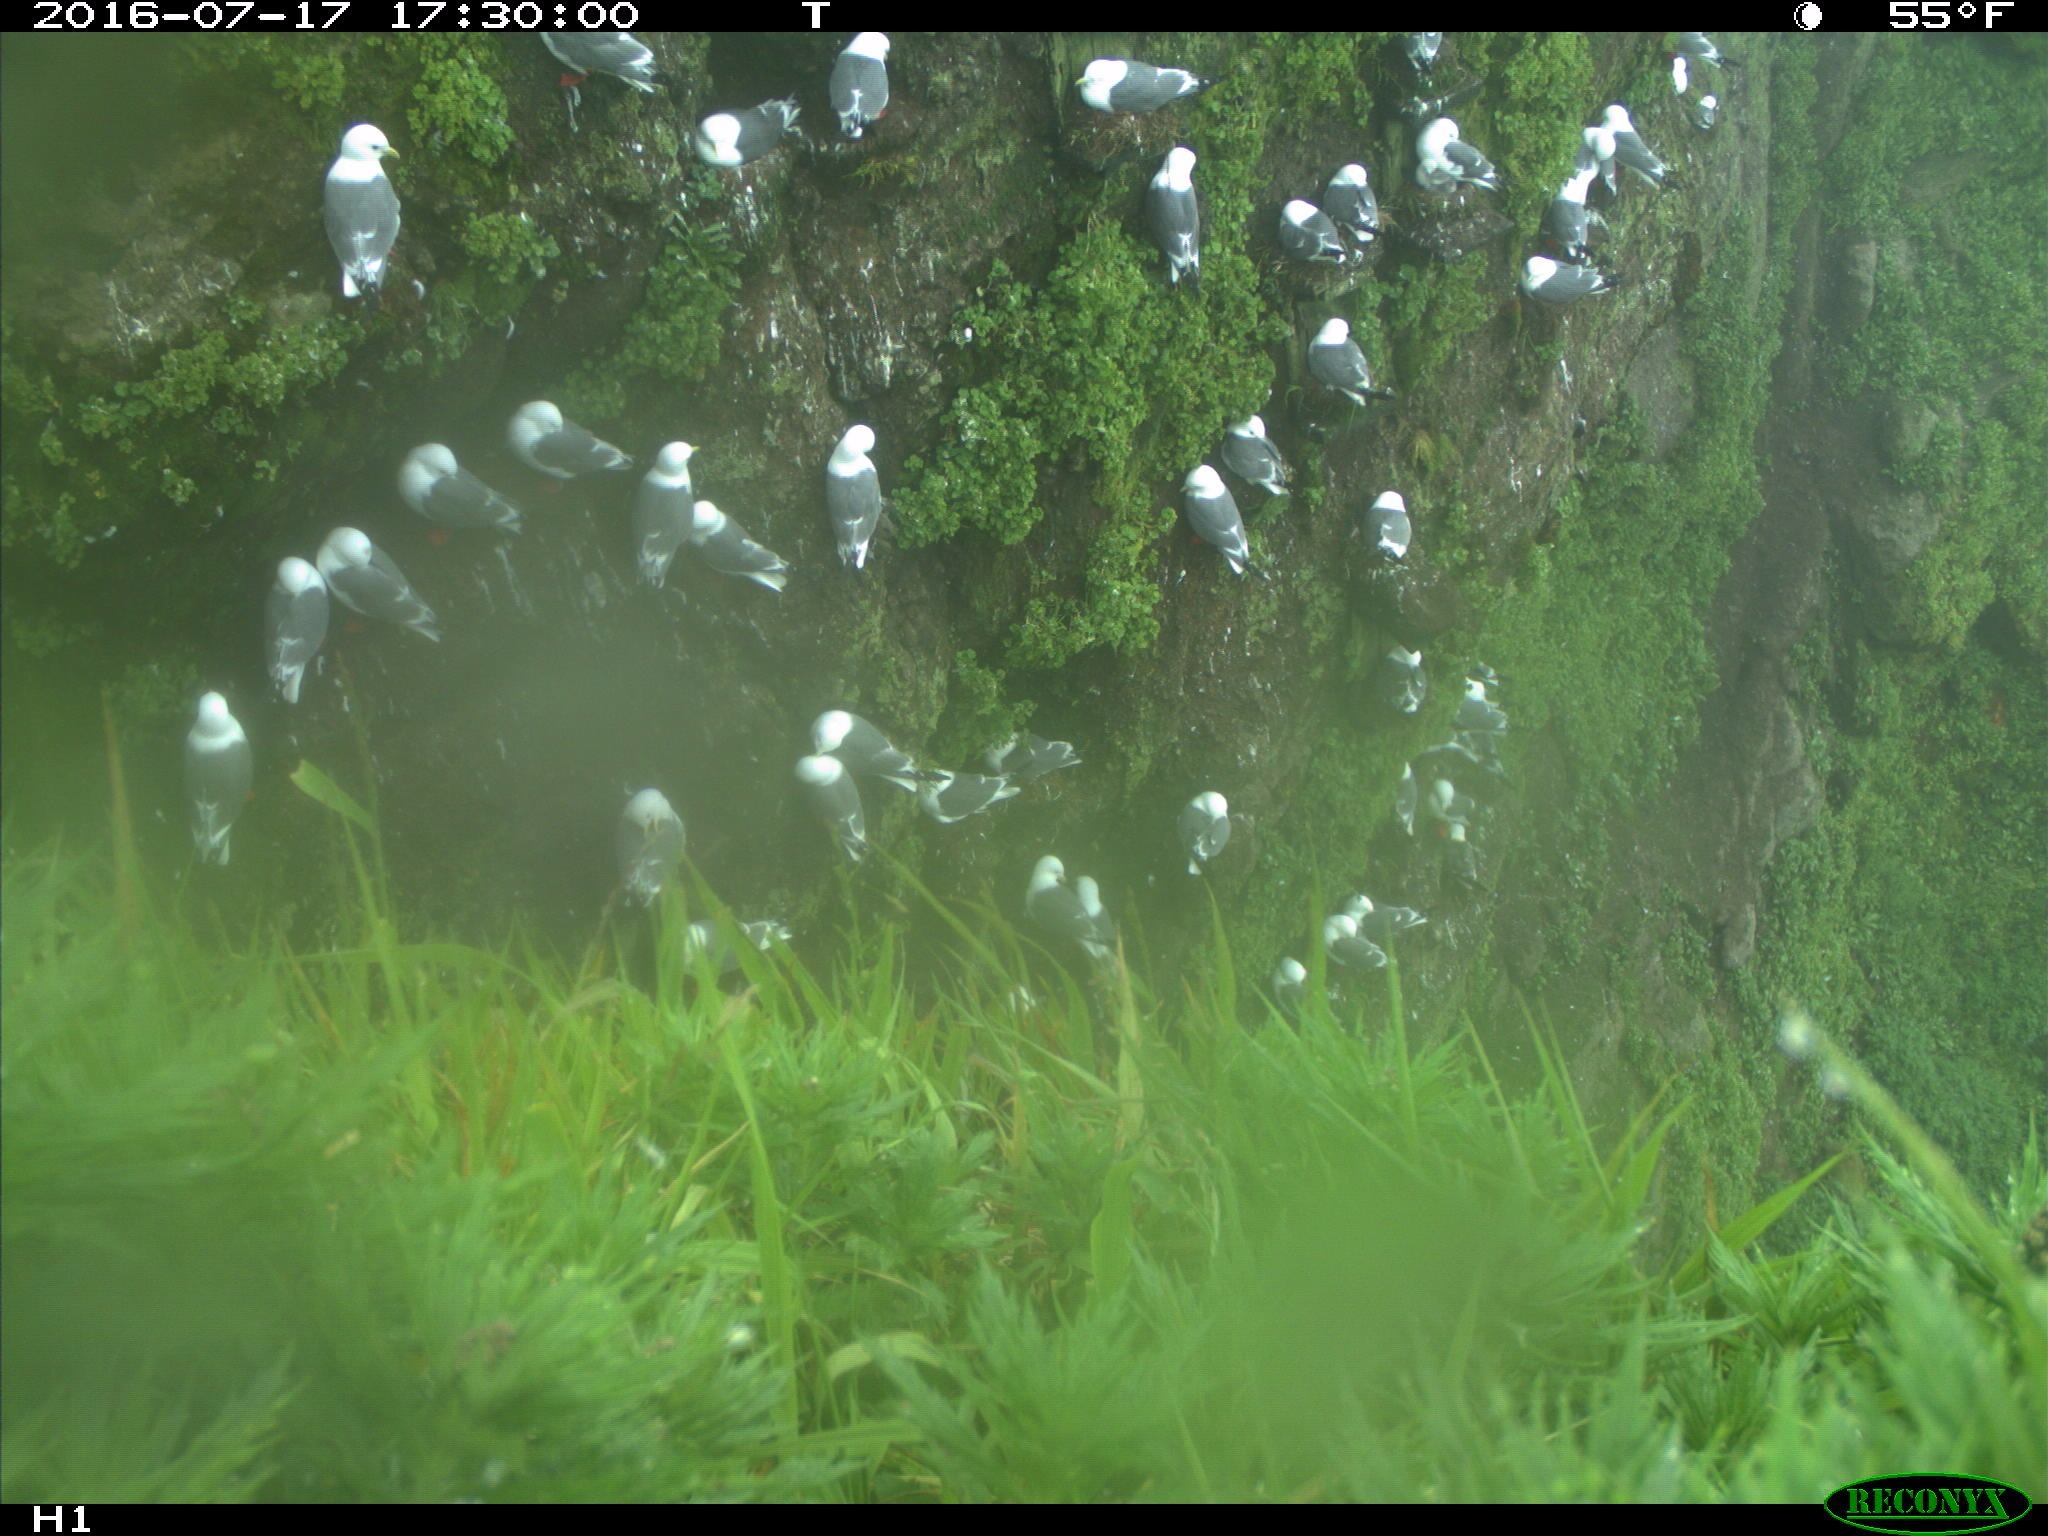Kittiwake: (269, 118, 447, 316), (287, 502, 461, 660), (814, 395, 922, 594), (168, 686, 276, 884), (777, 707, 963, 813), (760, 755, 901, 892), (500, 369, 656, 492), (516, 16, 669, 137), (1159, 444, 1280, 592), (1638, 31, 1774, 158), (618, 431, 718, 603), (1039, 40, 1229, 131), (664, 89, 858, 176), (1538, 110, 1635, 278), (382, 426, 519, 544), (1414, 105, 1532, 236), (813, 24, 930, 152), (692, 487, 813, 610), (1271, 900, 1447, 983), (1142, 139, 1222, 310), (1284, 303, 1408, 411), (247, 552, 329, 715), (1155, 771, 1255, 905), (610, 779, 705, 920), (910, 745, 1045, 841), (1214, 384, 1314, 507), (1498, 240, 1646, 323), (1587, 87, 1692, 195), (1334, 471, 1430, 587), (635, 905, 805, 971), (1018, 849, 1100, 984), (1313, 131, 1390, 269), (1432, 639, 1529, 745), (1343, 745, 1442, 845), (1266, 169, 1350, 286), (980, 721, 1111, 783), (1372, 613, 1430, 749), (1250, 941, 1330, 1031), (1308, 883, 1438, 937), (1069, 854, 1122, 983), (1426, 763, 1498, 855), (1388, 34, 1461, 95)
